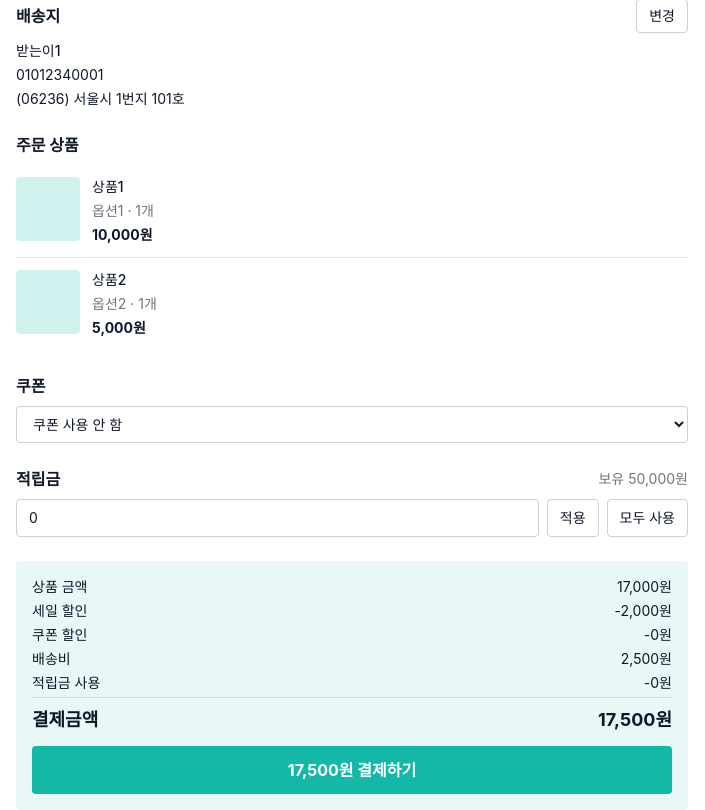
it: 주문 생성 실패면 서버 메시지를 보여 준다
(page scrolled)
Check: the text "상품1" is shown, box 92,178 -> 124,195
Click the button "17,500원 결제하기" at (352, 770), box 32,746 -> 672,794
(page scrolled)
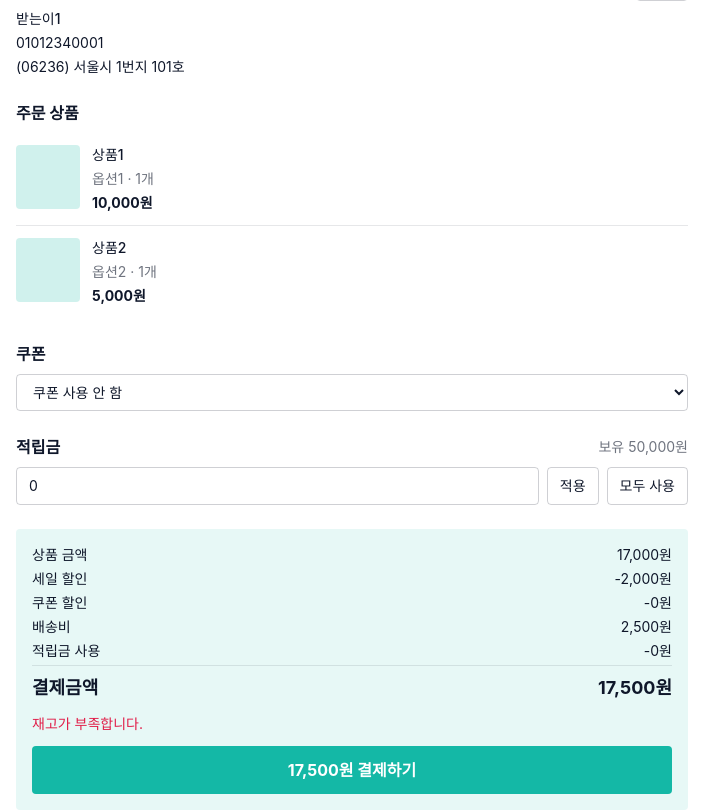
Check: the message reads "재고가 부족합니다.", box 32,715 -> 143,732
